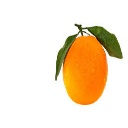orange: (61, 20, 110, 108)
